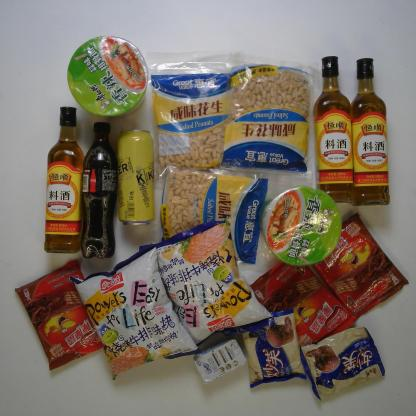Alcohol: (116, 129, 155, 229)
Dessert: (305, 212, 410, 320), (14, 259, 110, 372), (250, 256, 356, 349), (299, 326, 384, 400), (239, 310, 306, 388)
Dried Fruit: (142, 50, 245, 179), (219, 55, 319, 185), (151, 166, 268, 272)
Drink: (80, 121, 117, 258)
Instant Noodles: (66, 35, 149, 119), (259, 187, 342, 267)
Milk: (194, 338, 245, 383)
Puffed Food: (139, 217, 276, 347), (69, 244, 198, 381)
Seasoner: (312, 54, 354, 204), (351, 56, 392, 206), (43, 105, 81, 256)
